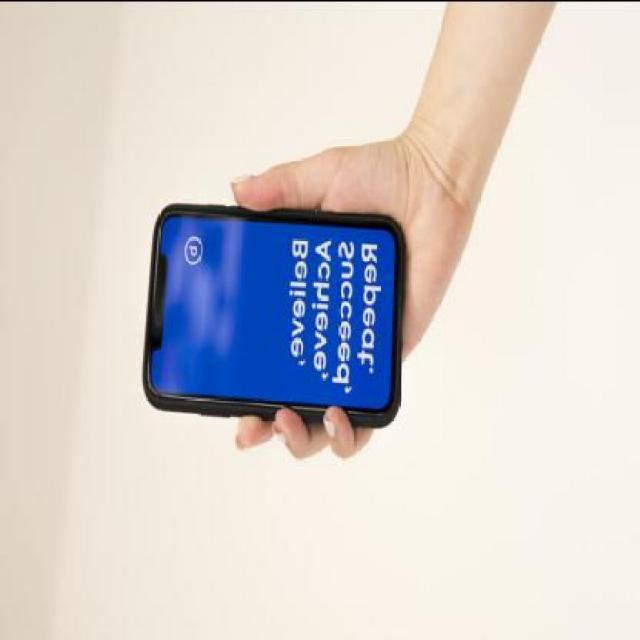phone: (140, 202, 398, 426)
